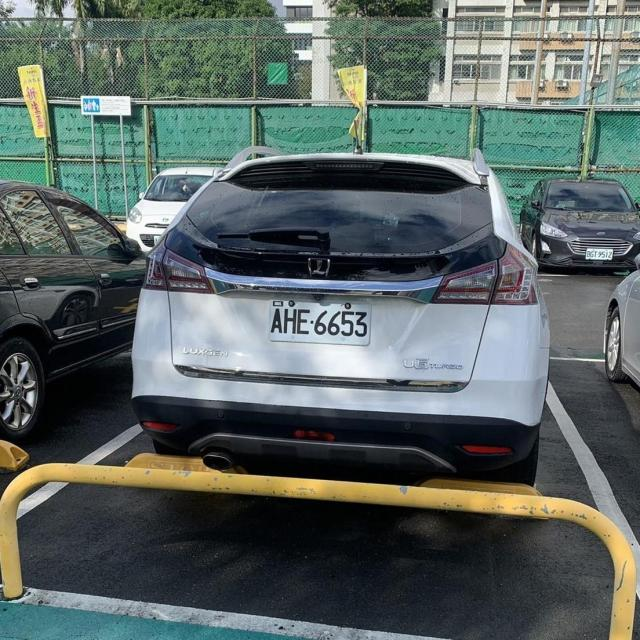W: (264, 292, 374, 350), (585, 247, 613, 261)
